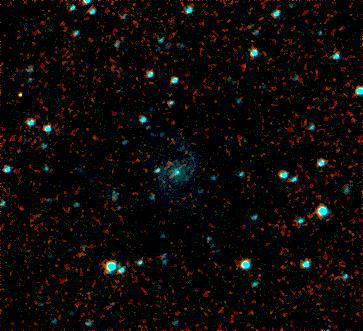star: (3, 78, 33, 108)
